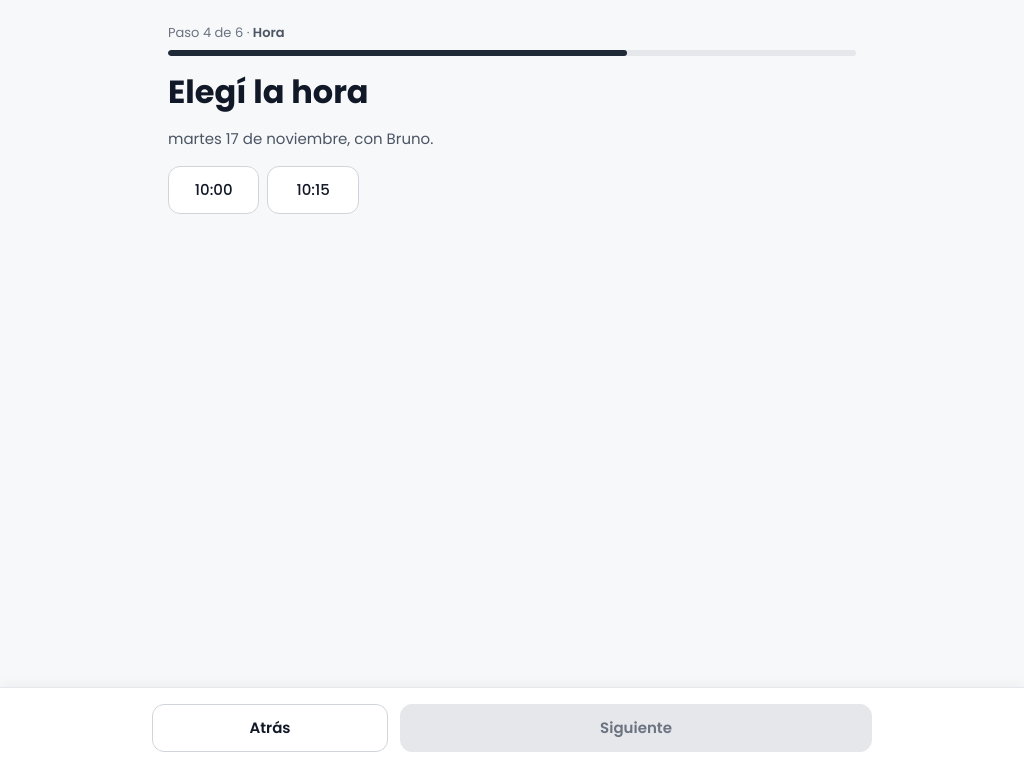
Scenario: Paso 4: hora › HU-12 CA1: si al apartar la hora ya se ocupó, avisa, la desmarca y actualiza la lista
The width and height of the screenshot is (1024, 768).
Click the button "10:00" at (214, 190), box [168,166,259,214]
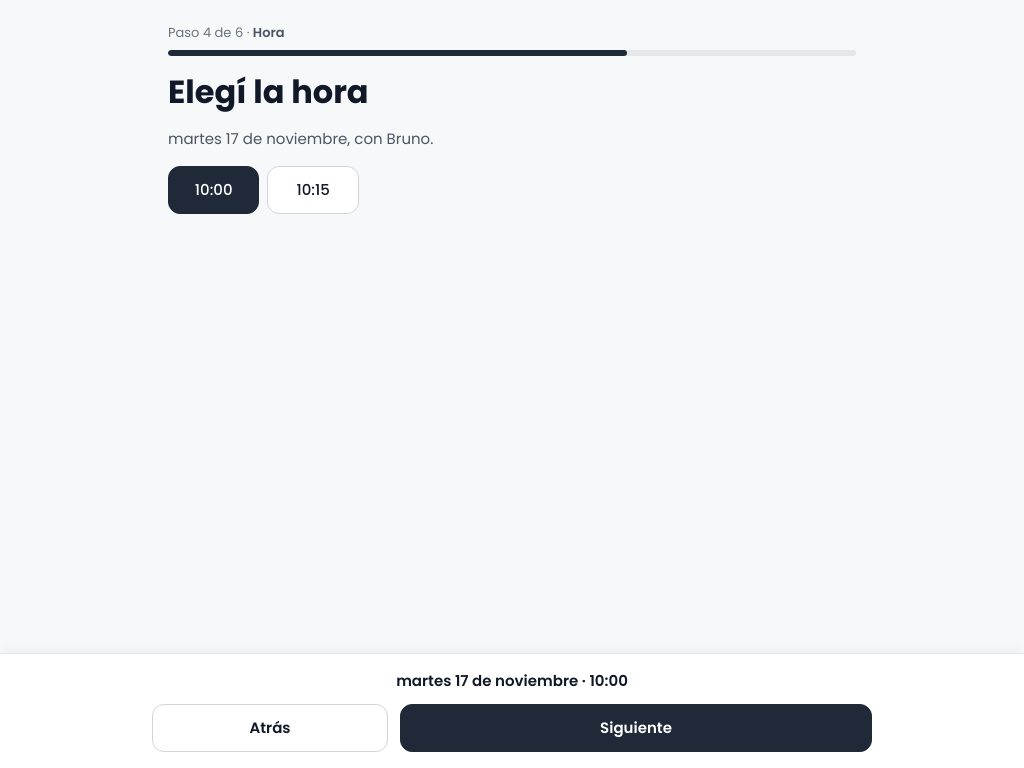
Click the button "Siguiente" at (636, 728), box [400,704,872,752]
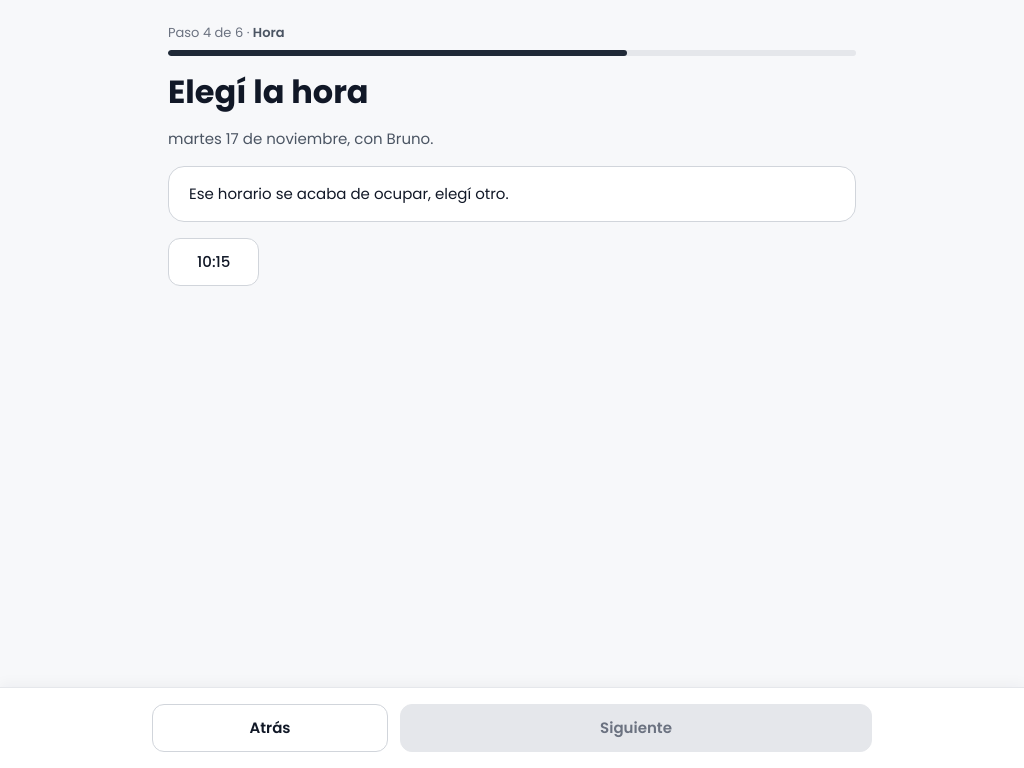
Check: the message reads "Ese horario se acaba de ocupar, elegí otro.", box [189,183,509,204]
Check: the button "10:00" is gone
Check: the button "Siguiente" is disabled, box [400,704,872,752]
